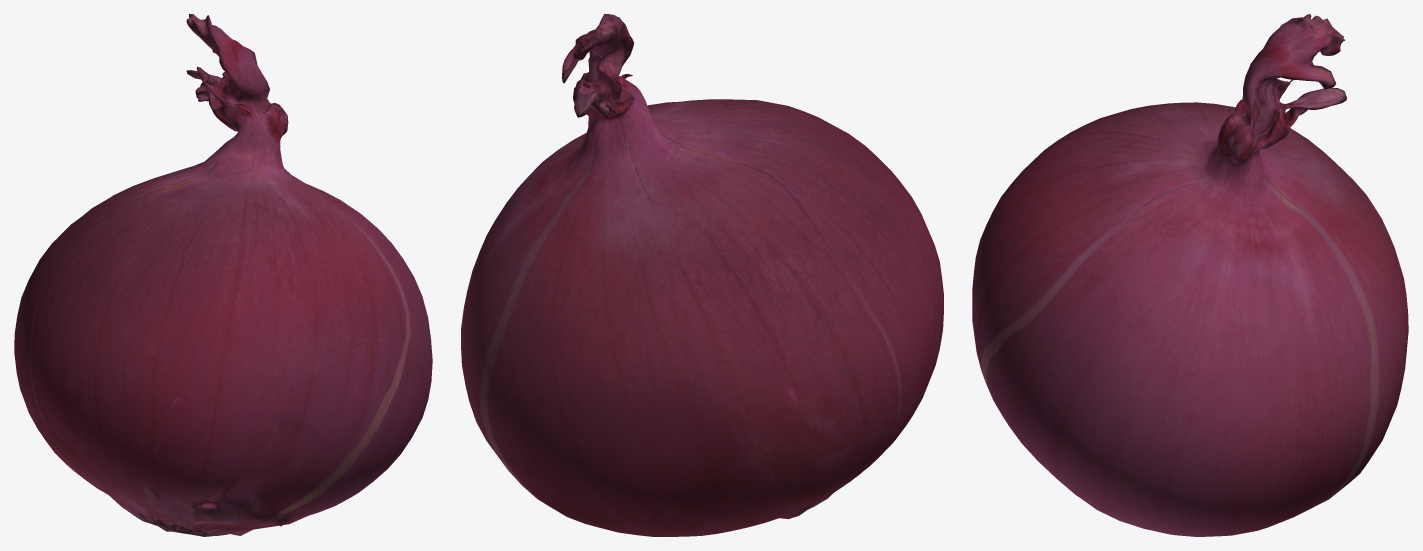
The model's file is onion.gltf.
The picture shows the model from 3 angles, left to right: view 1: azimuth 30°, elevation 25°; view 2: azimuth 150°, elevation 25°; view 3: azimuth 270°, elevation 25°; orthographic projection. The views are drawn at different scales.
Visible parts, largest first — view 1: yellow_onion; view 2: yellow_onion; view 3: yellow_onion.
Boxes of the visible parts, x1=… form: yellow_onion: x1=14, y1=14, x2=432, y2=536; yellow_onion: x1=461, y1=14, x2=943, y2=536; yellow_onion: x1=972, y1=14, x2=1408, y2=536.
Size of the model in its own units: 0.0725 by 0.0864 by 0.0686.
Materials: 1 (1 with a texture image).
